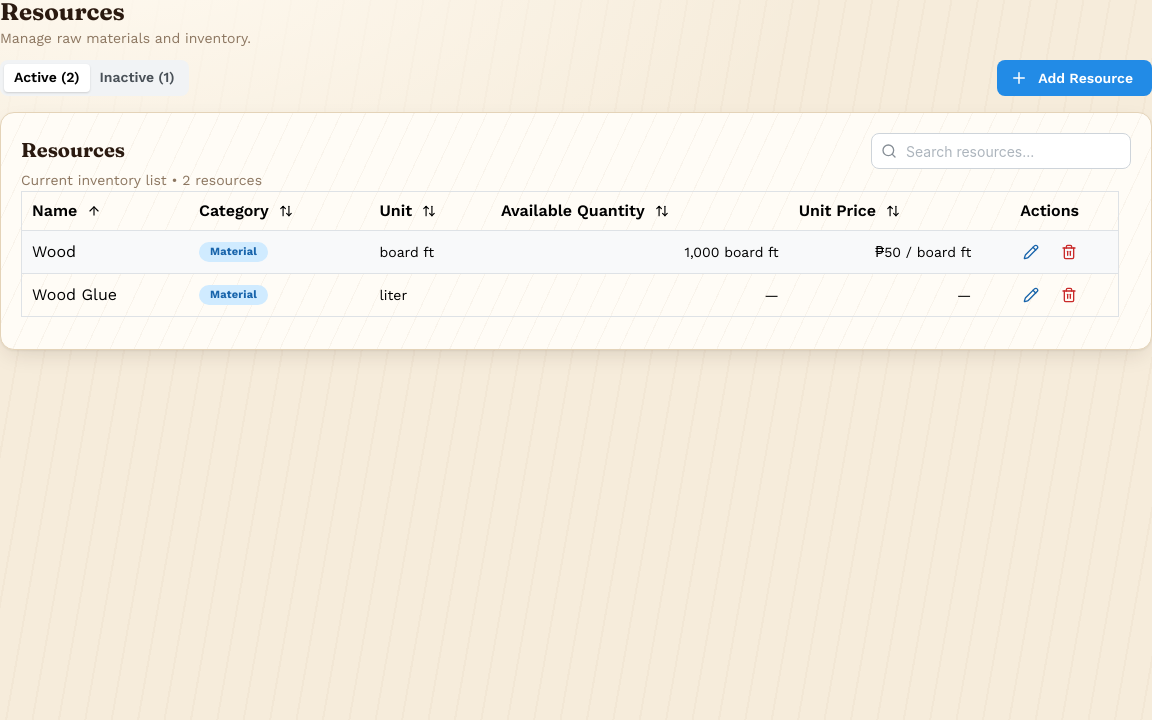
Test: ResourcesPage resource-update notification › lists inactive resources and reactivates the original record after confirmation
Expected: the text "Wood" is shown, [32,240,76,265]
Click the radio button labelled "Inactive (1)" at (137, 78), box [100,70,175,86]
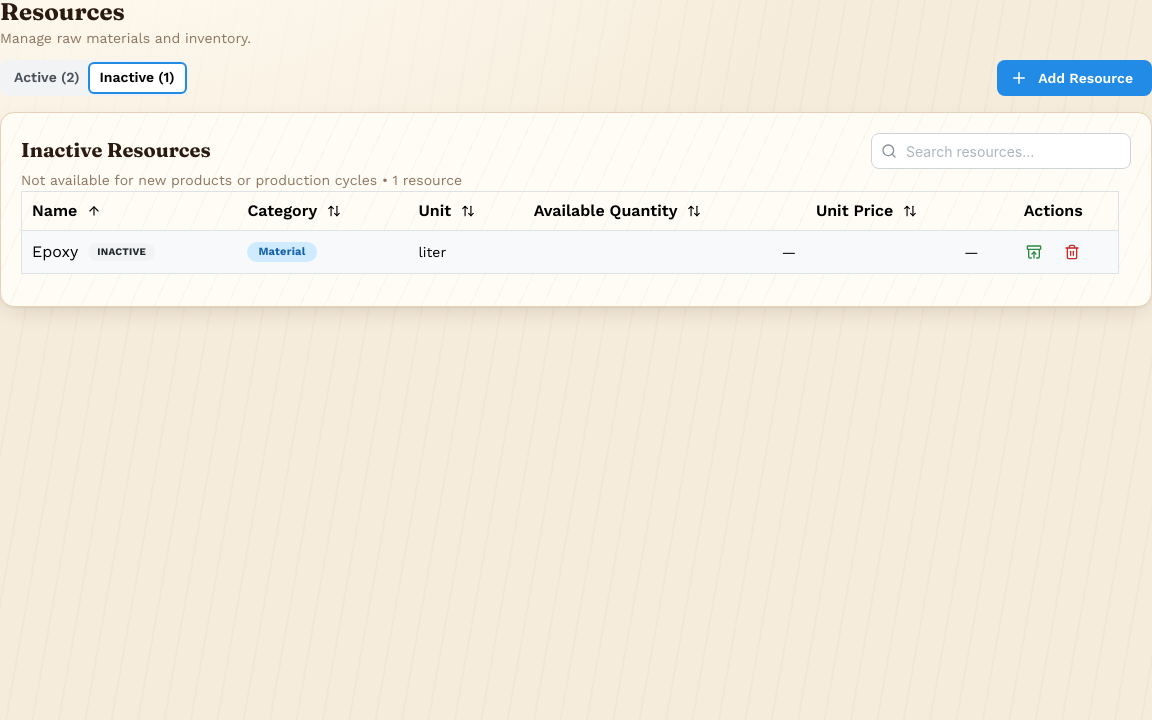
Expected: the text "Epoxy" is shown, [32,240,78,265]
Expected: the text "Inactive" is shown, [97,244,146,260]
Expected: the text "Wood Glue" is gone
Click the button named "reactivate epoxy" at (1034, 252), box [1020,238,1048,266]
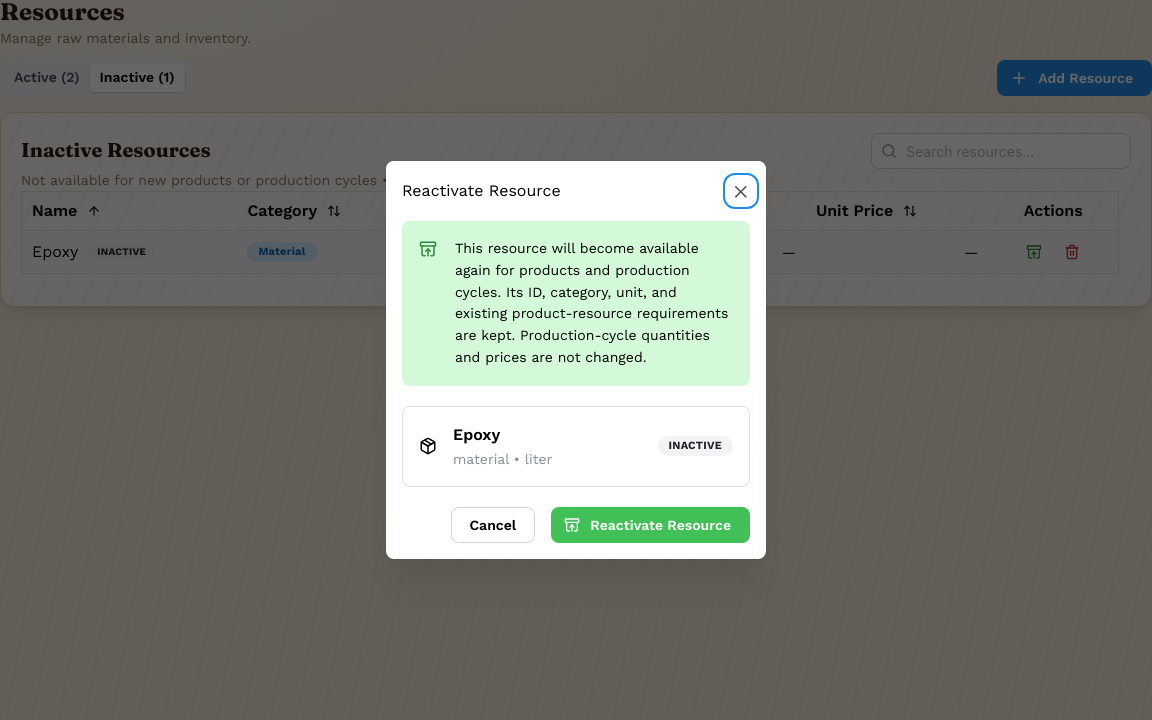
Expected: the text "existing product-resource requirements are kept" is shown, [455,240,728,365]
Click the button "Reactivate Resource" at (651, 525), box [551,507,750,543]
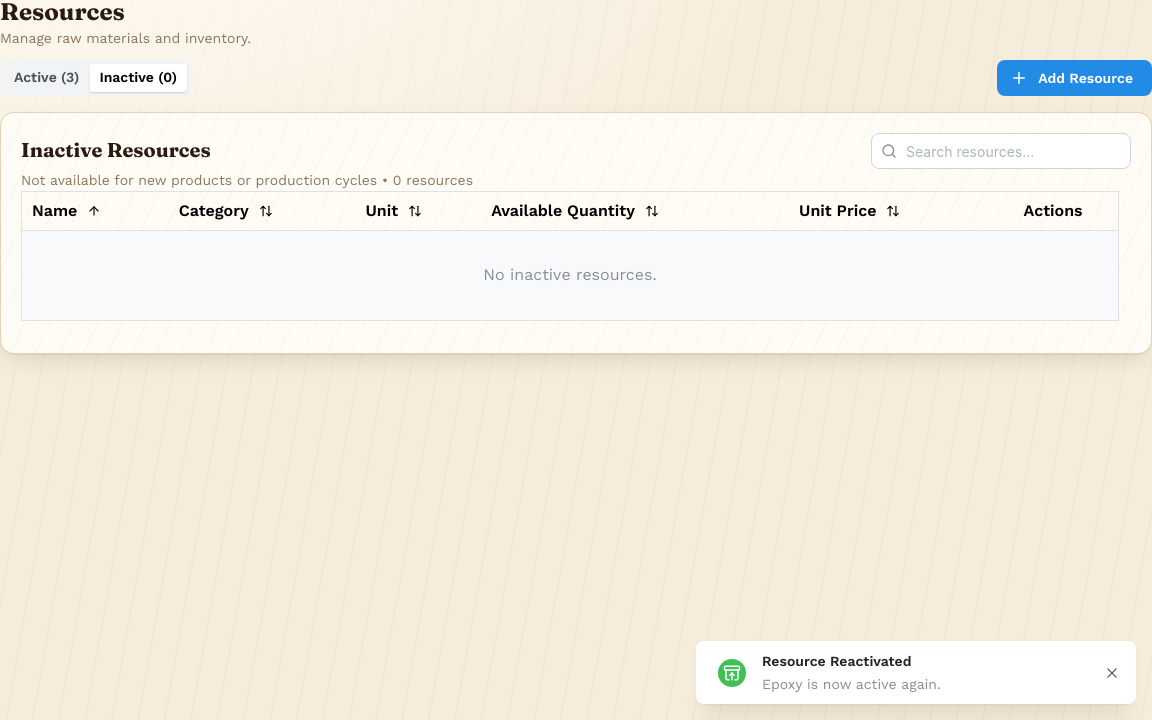
Expected: the text "Resource Reactivated" is shown, [762,653,912,669]
Expected: the text "No inactive resources." is shown, [483,265,657,284]
Click the radio button labelled "Active (3)" at (47, 78), box [14,70,79,86]
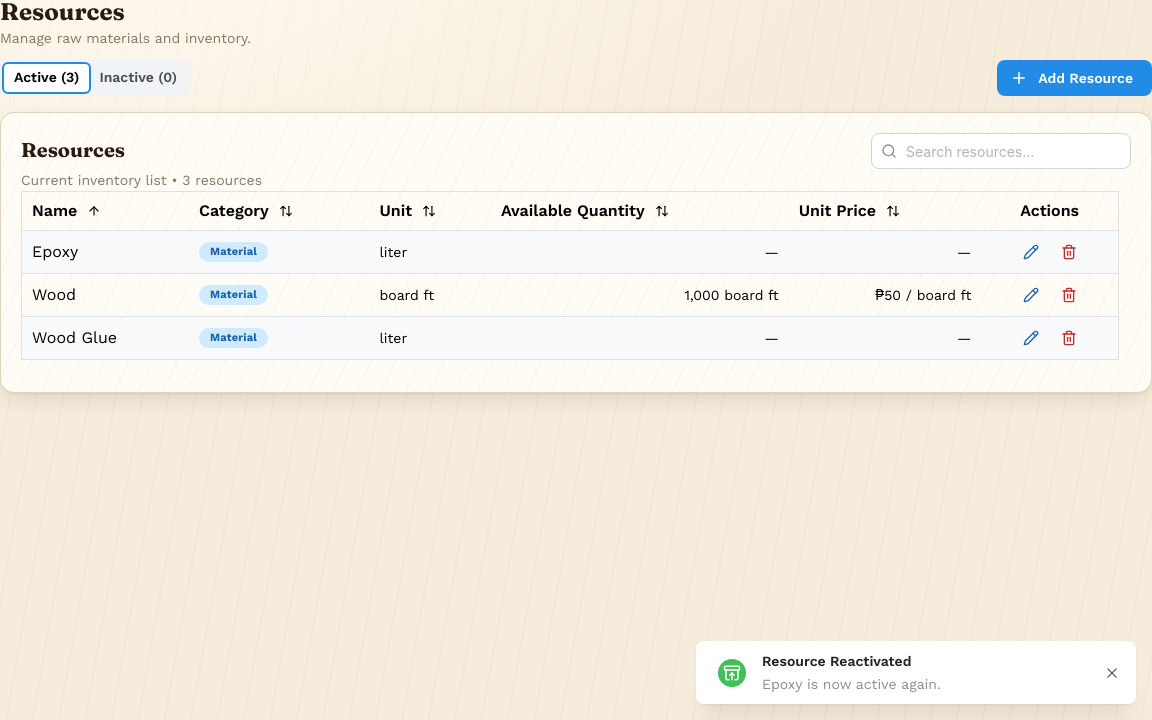
Expected: the text "Epoxy" is shown, [32,240,78,265]
Click the button "Add Resource" at (1075, 78), box [997,60,1151,96]
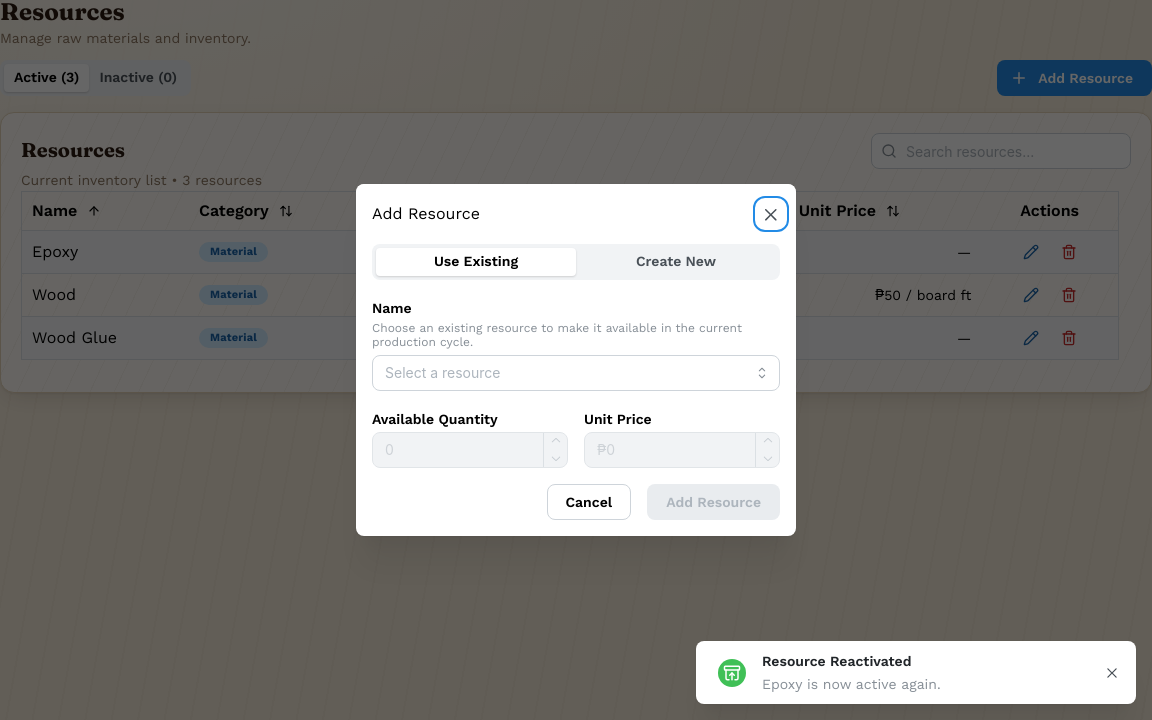
Click the dropdown labelled "Name" at (576, 373), box [372,355,780,391]
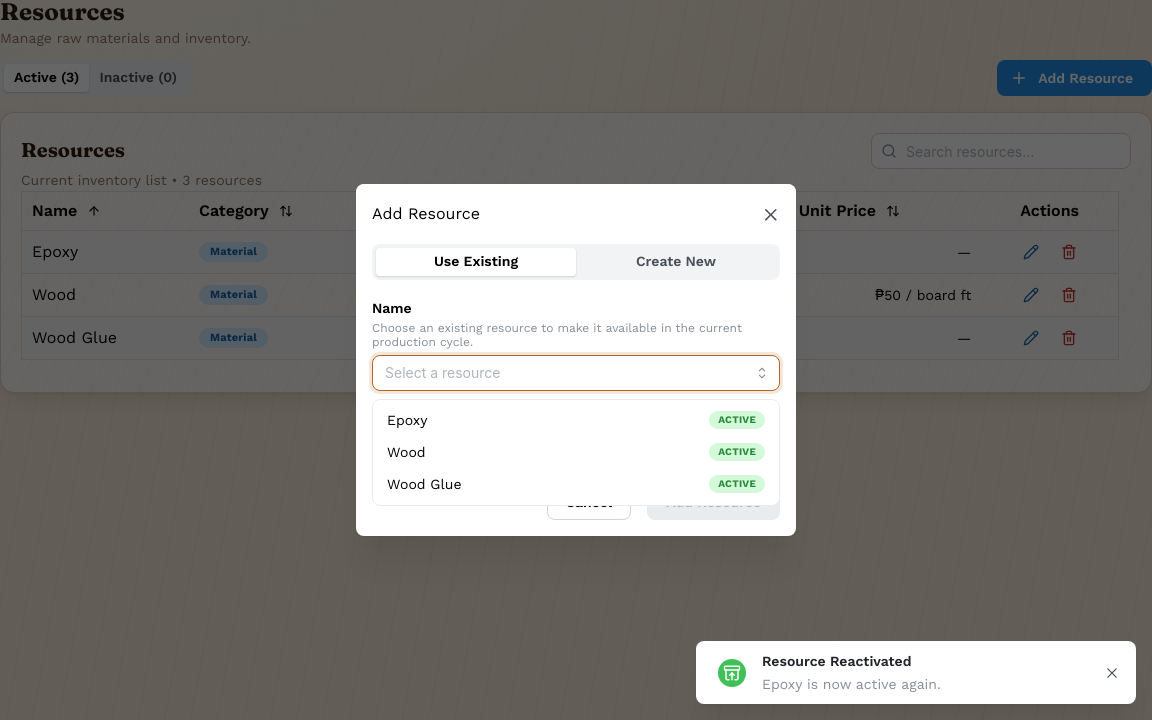
Expected: the 1st text "Active" is shown, [718,412,756,428]
